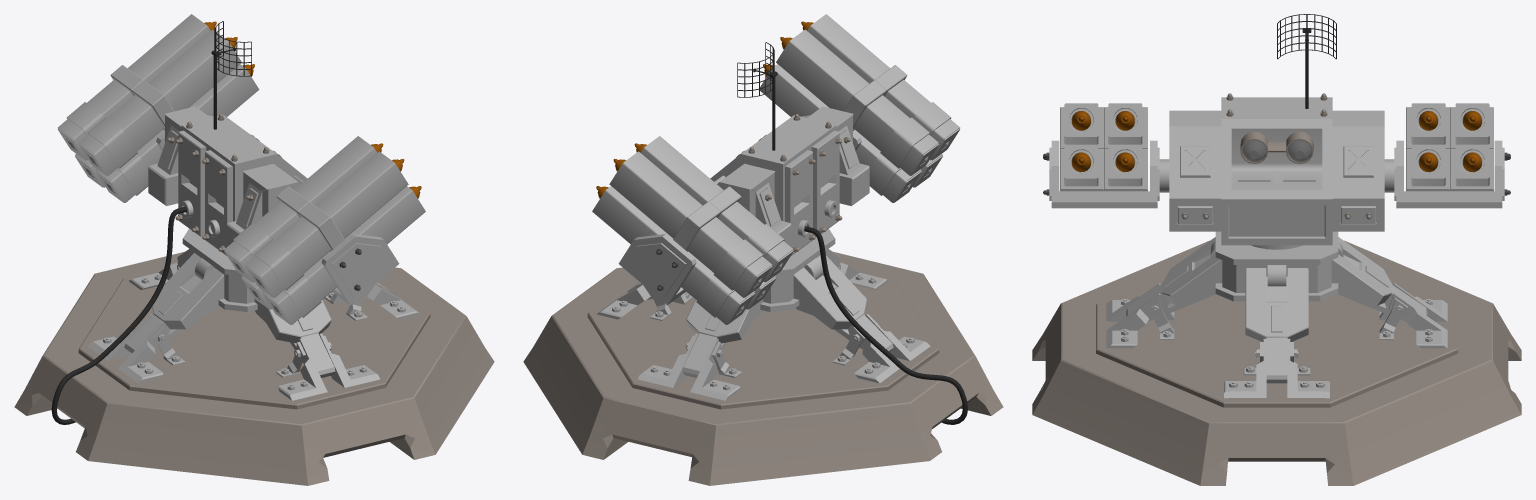
File: rocket-turret.glb
3 renders of one model, left to right at view 1: azimuth 30°, elevation 25°; view 2: azimuth 150°, elevation 25°; view 3: azimuth 270°, elevation 25°, orthographic. The views are drawn at different scales.
Visible parts, largest first — view 1: Cube.004_15, Cube.001_3, Cube.003_12, Cube_11, Cube.002_6, Plane_14, BezierCurve.001_17, Cylinder.004_9, Cylinder.008_10; view 2: Cube.004_15, Cube.001_3, Cube.003_12, Cube_11, Cube.002_6, Plane_14, BezierCurve.001_17, Cylinder.004_9, Cylinder.008_10; view 3: Cube.004_15, Cube_11, Cube.003_12, Cube.001_3, Cube.002_6, Plane_14, Cylinder.001_2, Cylinder.002_7, Cylinder.004_9, Cylinder_4.
Part boxes in pixels (bbox=[...]): Cube.004_15: bbox=[14, 251, 494, 485]; Cube.001_3: bbox=[57, 14, 425, 324]; Cube.003_12: bbox=[87, 249, 421, 400]; Cube_11: bbox=[148, 106, 307, 256]; Cube.002_6: bbox=[156, 115, 399, 304]; Plane_14: bbox=[182, 228, 257, 311]; BezierCurve.001_17: bbox=[51, 206, 187, 424]; Cylinder.004_9: bbox=[211, 21, 251, 129]; Cylinder.008_10: bbox=[167, 114, 269, 252]; Cube.004_15: bbox=[523, 251, 1003, 485]; Cube.001_3: bbox=[592, 14, 960, 324]; Cube.003_12: bbox=[596, 249, 930, 400]; Cube_11: bbox=[710, 106, 869, 256]; Cube.002_6: bbox=[618, 115, 861, 304]; Plane_14: bbox=[760, 228, 835, 311]; BezierCurve.001_17: bbox=[804, 226, 967, 424]; Cylinder.004_9: bbox=[737, 42, 777, 150]; Cylinder.008_10: bbox=[748, 114, 850, 252]; Cube.004_15: bbox=[1032, 240, 1521, 485]; Cube_11: bbox=[1169, 97, 1384, 245]; Cube.003_12: bbox=[1106, 237, 1447, 398]; Cube.001_3: bbox=[1060, 103, 1493, 191]; Cube.002_6: bbox=[1049, 140, 1504, 208]; Plane_14: bbox=[1215, 231, 1338, 301]; Cylinder.001_2: bbox=[1072, 111, 1481, 172]; Cylinder.002_7: bbox=[1240, 131, 1313, 163]; Cylinder.004_9: bbox=[1277, 14, 1336, 108]; Cylinder_4: bbox=[1159, 159, 1394, 192].
Bounding box in the file's own units: 8.81 × 7.1 × 8.81.
